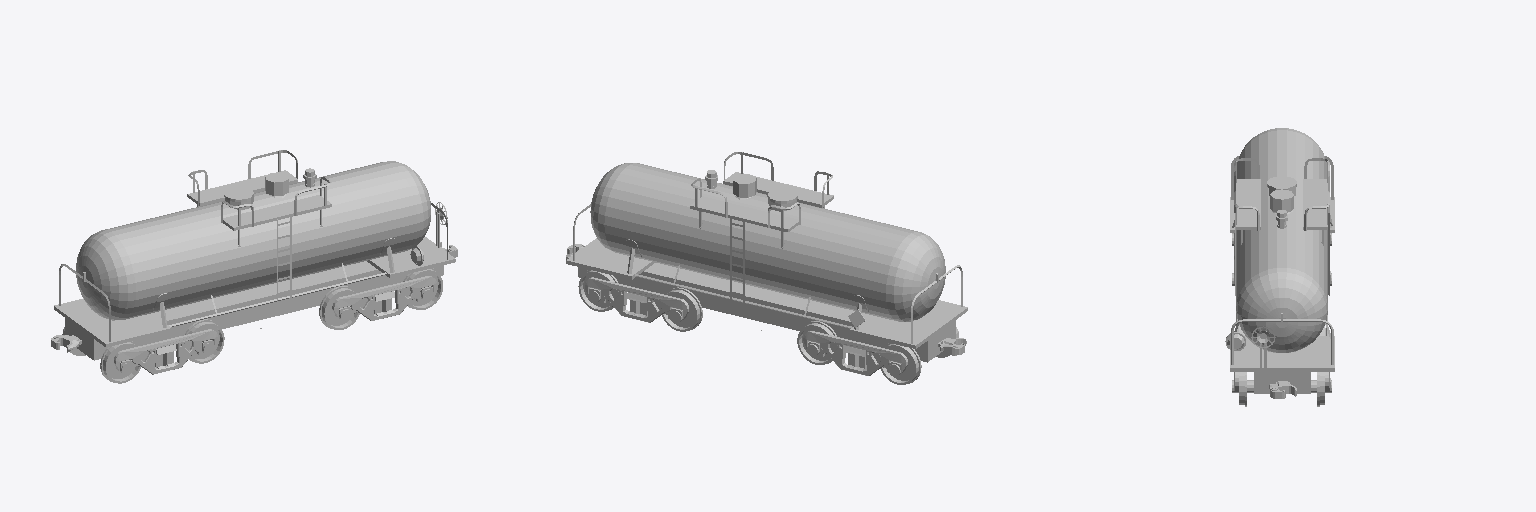
The model's file is train_tank_small.obj.
3 renders of one model, left to right at view 1: azimuth 30°, elevation 25°; view 2: azimuth 150°, elevation 25°; view 3: azimuth 270°, elevation 25°, orthographic.
Parts seen in each view (by area): view 1: (null); view 2: (null); view 3: (null).
Part boxes in pixels (left/top/right/bottom): (null): left=51, top=150, right=457, bottom=383; (null): left=566, top=152, right=967, bottom=384; (null): left=1225, top=128, right=1334, bottom=406.
Size of the model in its own units: 442 by 162 by 105.